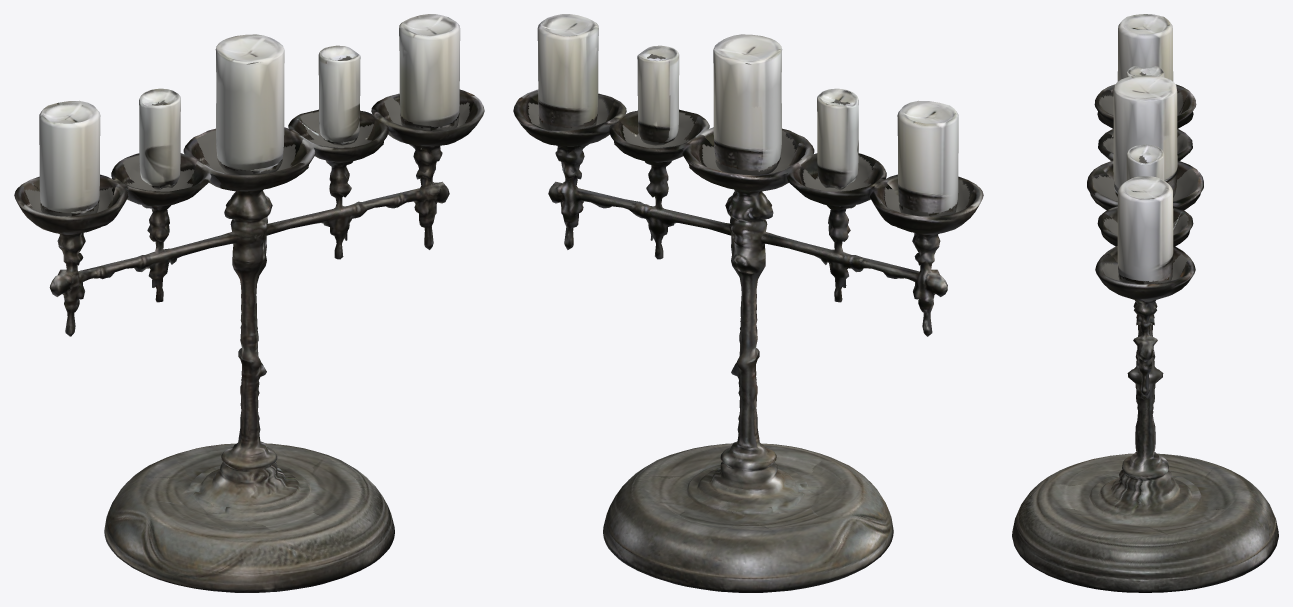
File: candelabra_shrine.glb
3 views of the same model, side by side, from view 1: azimuth 30°, elevation 25°; view 2: azimuth 150°, elevation 25°; view 3: azimuth 270°, elevation 25° (orthographic). The views are drawn at different scales.
Parts seen in each view (by area): view 1: geometry_0; view 2: geometry_0; view 3: geometry_0.
Part boxes in pixels (bbox=[...]): geometry_0: bbox=[14, 14, 484, 592]; geometry_0: bbox=[513, 14, 983, 592]; geometry_0: bbox=[1012, 14, 1278, 592].
Bounding box in the file's own units: 1.6 × 1.63 × 0.8772.
Materials: 1 (1 with a texture image).
